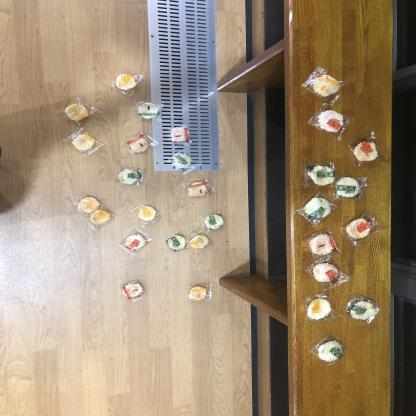green_setoshio: (313, 336, 351, 366), (298, 192, 335, 222), (345, 295, 382, 324), (302, 159, 339, 187), (332, 176, 366, 201), (132, 98, 164, 123), (161, 230, 190, 253), (169, 152, 199, 174), (115, 166, 147, 186), (199, 210, 226, 230)
red_setoshio: (307, 259, 350, 291), (309, 107, 351, 136), (348, 134, 381, 167), (348, 212, 379, 244), (306, 230, 340, 257), (119, 231, 153, 257), (125, 132, 156, 156), (183, 179, 216, 200), (168, 124, 196, 147), (121, 280, 148, 302)
yellow_setoshio: (303, 72, 344, 100), (66, 129, 104, 157), (302, 293, 336, 322), (60, 97, 95, 124), (109, 69, 143, 95), (132, 202, 164, 227), (87, 208, 115, 230), (74, 194, 103, 215), (188, 230, 212, 252), (184, 284, 214, 301)
